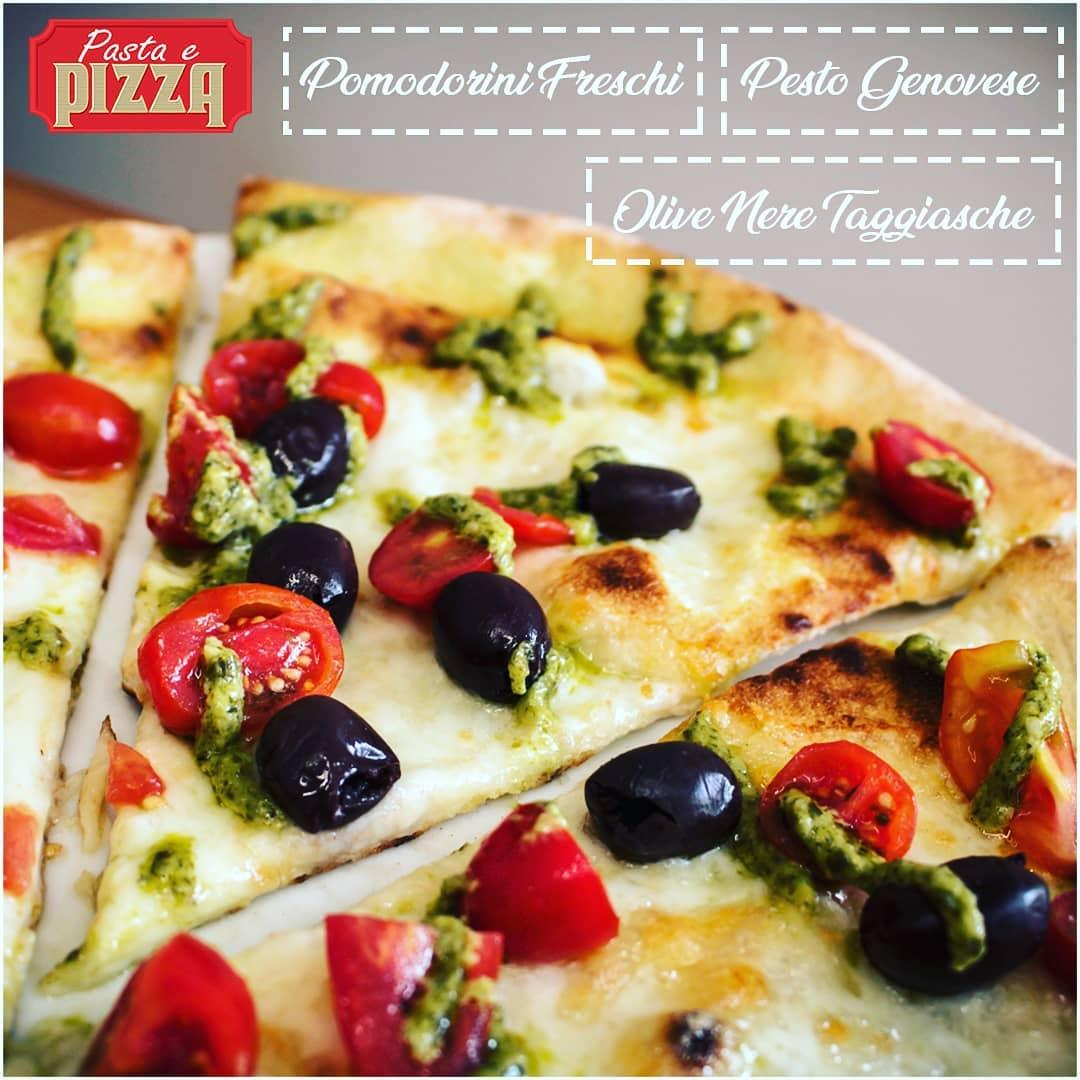Olives: (851, 849, 1060, 1002), (251, 685, 406, 851), (573, 732, 752, 875), (426, 561, 552, 710), (235, 510, 364, 635), (571, 447, 708, 554), (248, 390, 357, 513)
Pizza: (0, 175, 1080, 1080)
Tomatoes: (135, 578, 354, 753), (933, 633, 1080, 886), (440, 784, 628, 978), (312, 898, 499, 1080), (71, 918, 268, 1080), (750, 730, 929, 891), (859, 403, 1002, 546), (0, 366, 149, 491), (361, 490, 504, 610), (196, 327, 316, 439), (470, 471, 580, 562), (312, 349, 392, 444), (1038, 877, 1080, 1009)
